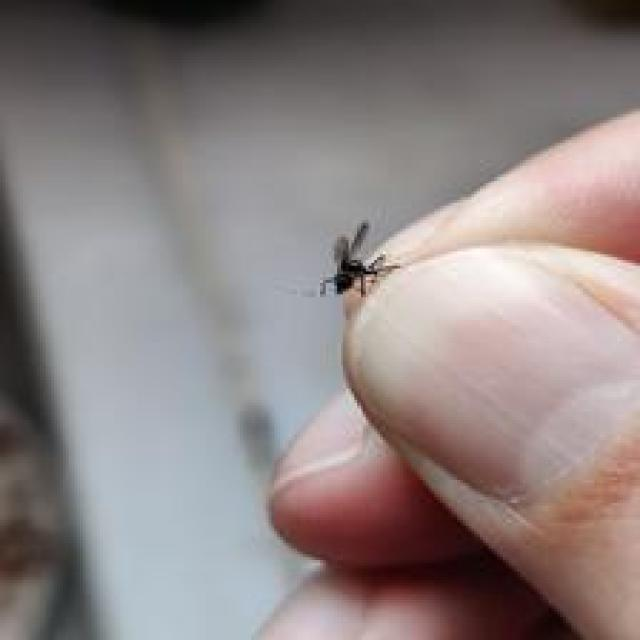Aedes albopictus: (316, 220, 401, 300)
